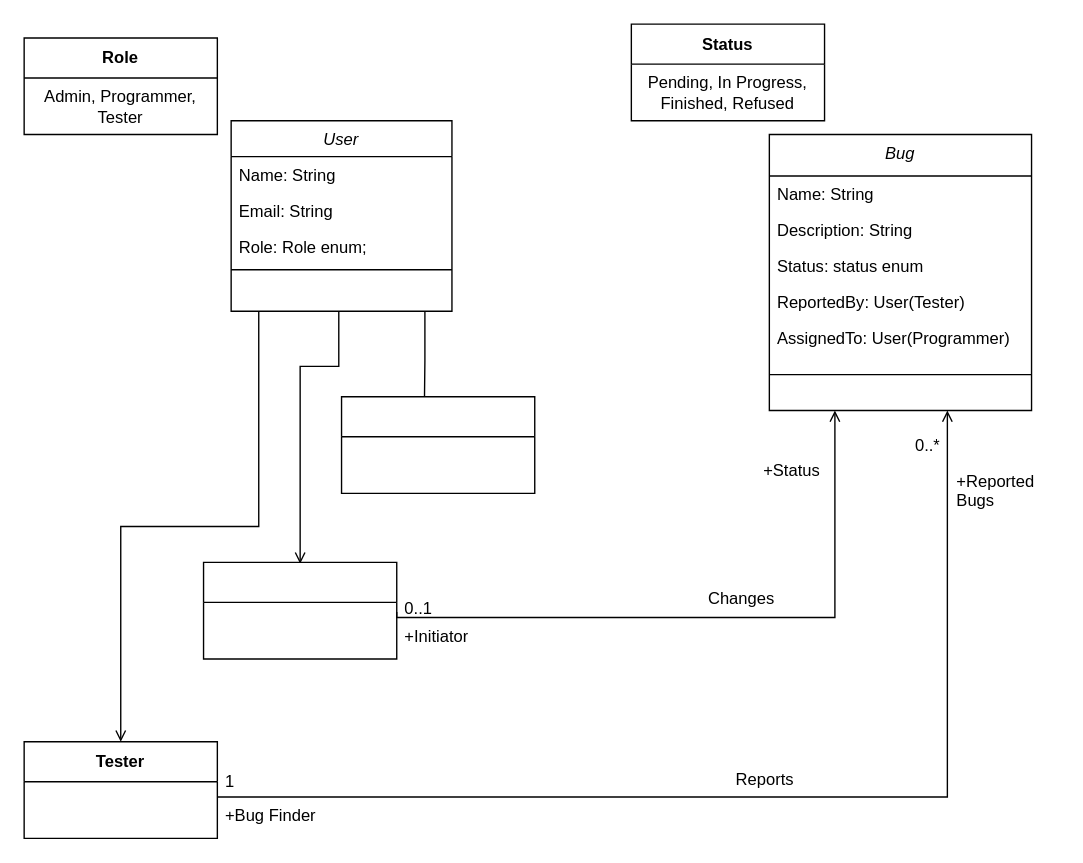
The diagram is 1083 pixels wide and 863 high, and some of its shapes have lost their labels. Here are the shapes that lost their labels. From the top down, the centre of each, then its label:
the point at 437,444: Admin
the point at 299,610: Programmer
